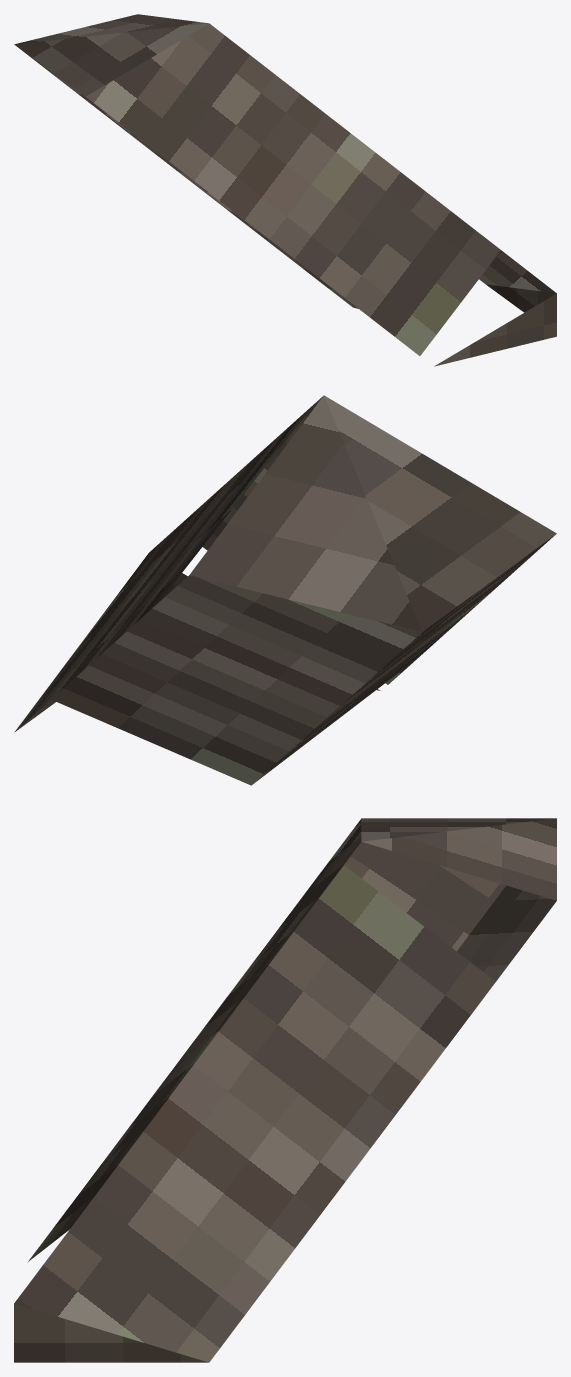
Rendered from elm_branch_45_diagonal.obj.
3 renders of one model, top to bottom at view 1: azimuth 30°, elevation 25°; view 2: azimuth 150°, elevation 25°; view 3: azimuth 270°, elevation 25°, orthographic. The views are drawn at different scales.
Visible parts, largest first — view 1: cube; view 2: cube; view 3: cube.
Boxes of the visible parts, x1=… form: cube: x1=14, y1=14, x2=556, y2=366; cube: x1=14, y1=395, x2=556, y2=785; cube: x1=14, y1=818, x2=556, y2=1362.
Size of the model in its own units: 1.56 by 1.19 by 1.56.
